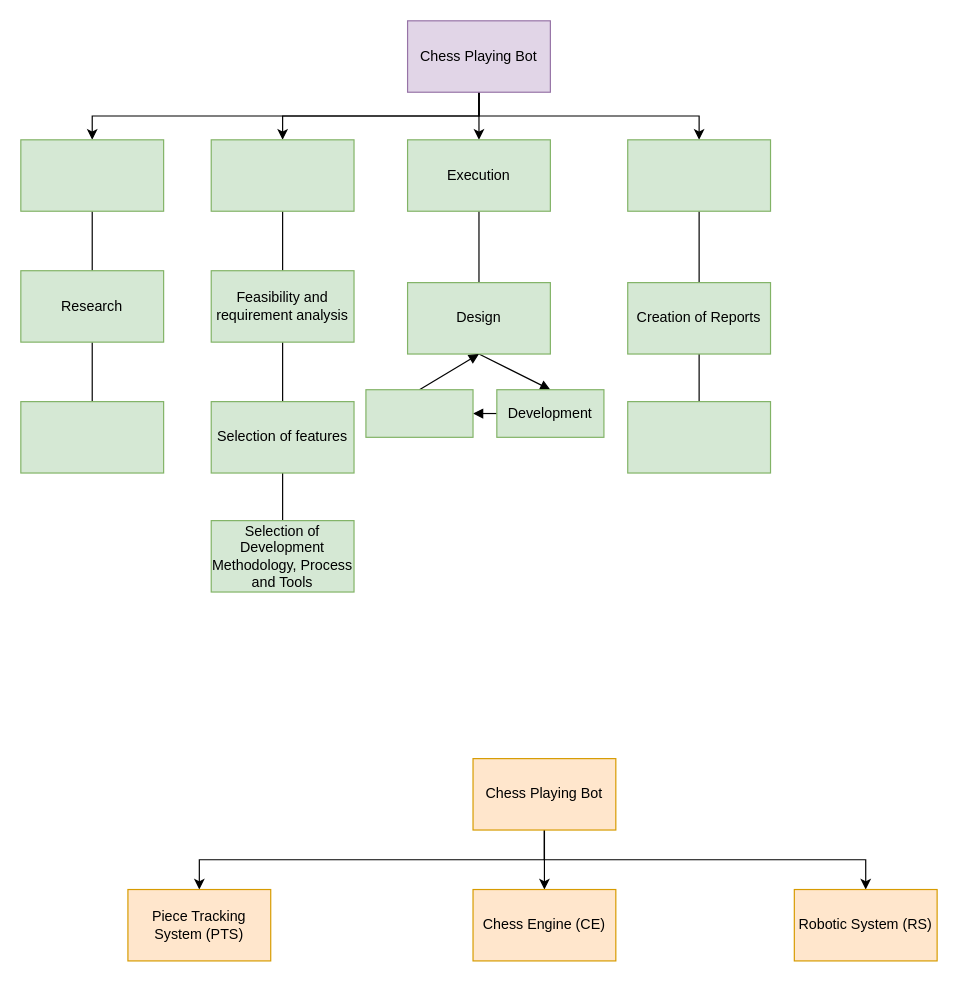
This 958x982 diagram has some shape labels left out. Each missing label, with the box of its shape:
Closure: (627, 139, 771, 211)
Delivery of the project: (627, 400, 771, 473)
Initiation: (20, 139, 164, 211)
Planning: (210, 139, 354, 211)
Requirement Gathering: (20, 400, 164, 473)
Testing: (365, 389, 473, 437)
